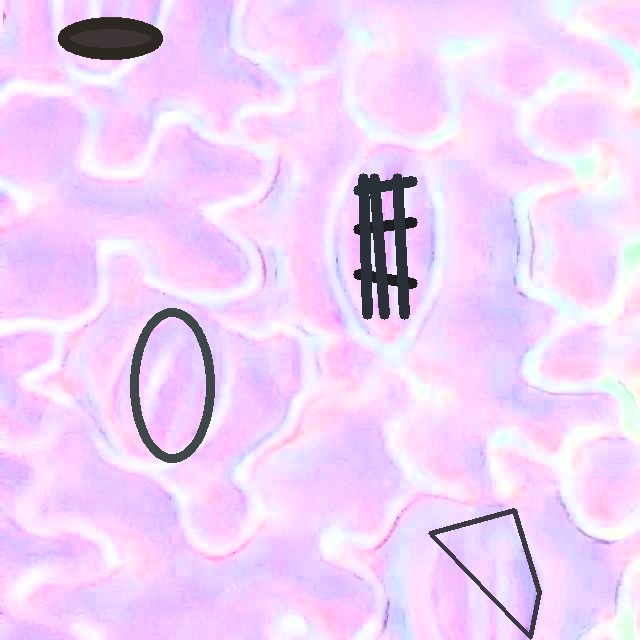open: (428, 508, 541, 639), (128, 307, 215, 463), (353, 173, 417, 318), (59, 17, 162, 59)
